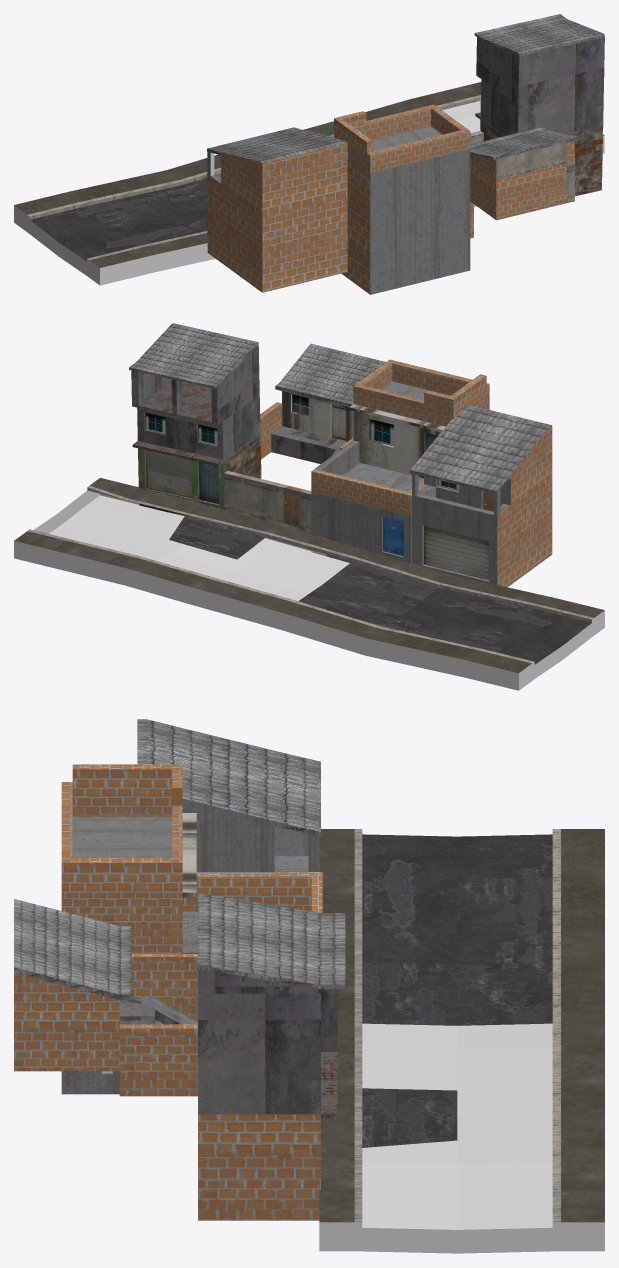
3 renders of one model, top to bottom at view 1: azimuth 30°, elevation 25°; view 2: azimuth 150°, elevation 25°; view 3: azimuth 270°, elevation 25°, orthographic. The views are drawn at different scales.
Parts seen in each view (by area): view 1: Object_39, Object_27, Object_8, Object_2, Object_28, Object_4, Object_19, Object_41, Object_7, Object_30, Object_40, Object_11 (+4 smaller); view 2: Object_41, Object_4, Object_3, Object_28, Object_8, Object_40, Object_2, Object_27, Object_39, Object_38, Object_7, Object_5 (+17 smaller); view 3: Object_41, Object_4, Object_3, Object_2, Object_19, Object_8, Object_28, Object_20, Object_40, Object_7, Object_18, Object_5 (+6 smaller).
Part boxes in pixels (<box>): Object_39: <box>207,143,347,292</box>; Object_27: <box>370,126,470,294</box>; Object_8: <box>475,37,604,136</box>; Object_2: <box>30,185,207,261</box>; Object_28: <box>334,104,470,173</box>; Object_4: <box>14,82,604,267</box>; Object_19: <box>470,155,566,238</box>; Object_41: <box>14,100,604,285</box>; Object_7: <box>474,14,604,55</box>; Object_30: <box>341,157,370,294</box>; Object_40: <box>207,127,347,163</box>; Object_11: <box>480,120,603,196</box>; Object_41: <box>14,490,604,690</box>; Object_4: <box>14,478,604,672</box>; Object_3: <box>169,515,509,649</box>; Object_28: <box>311,359,489,563</box>; Object_8: <box>131,345,260,465</box>; Object_40: <box>410,404,551,494</box>; Object_2: <box>385,588,591,664</box>; Object_27: <box>311,381,450,563</box>; Object_39: <box>497,425,552,587</box>; Object_38: <box>412,473,510,584</box>; Object_7: <box>129,323,258,388</box>; Object_5: <box>27,485,593,663</box>; Object_41: <box>319,1023,604,1253</box>; Object_4: <box>319,829,604,1222</box>; Object_3: <box>362,877,552,1147</box>; Object_2: <box>362,834,552,964</box>; Object_19: <box>14,954,197,1096</box>; Object_8: <box>198,970,337,1118</box>; Object_28: <box>61,764,322,912</box>; Object_20: <box>198,1114,320,1220</box>; Object_40: <box>137,719,320,836</box>; Object_7: <box>198,893,345,989</box>; Object_18: <box>14,899,131,999</box>; Object_5: <box>354,829,560,1222</box>.
Size of the model in its own units: 48.59 by 15.54 by 29.7.
Materials: 40 (35 with a texture image).
